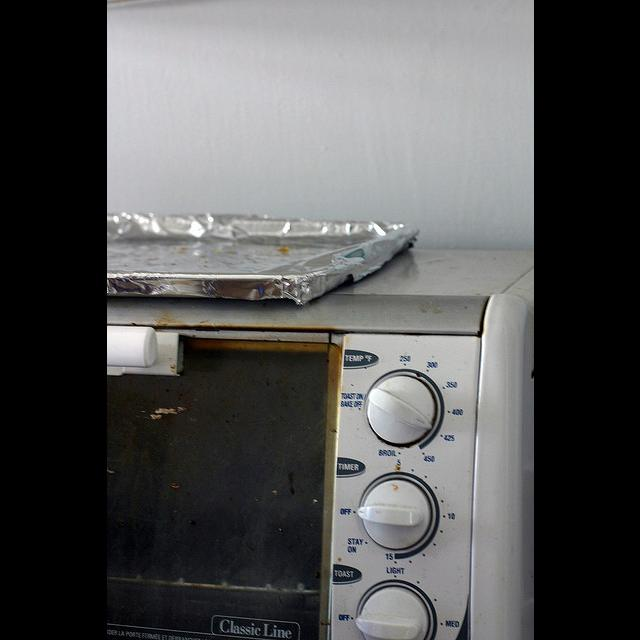Microwave: (108, 246, 533, 640)
